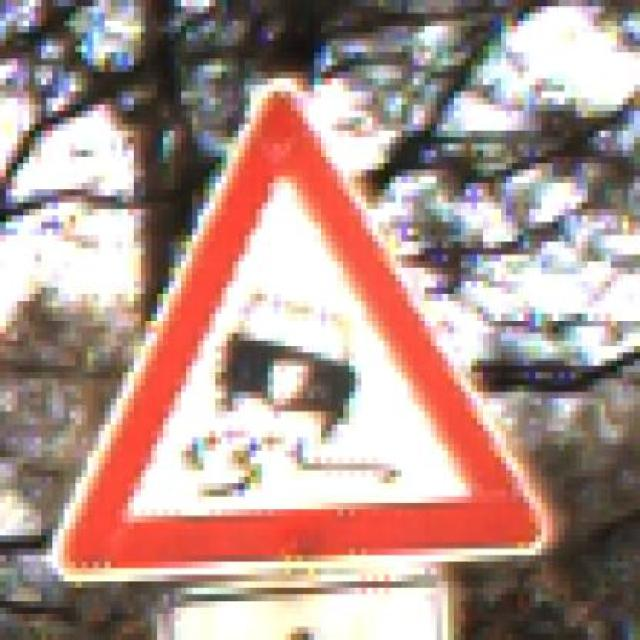Slippery Road Ahead: (41, 80, 559, 583)
